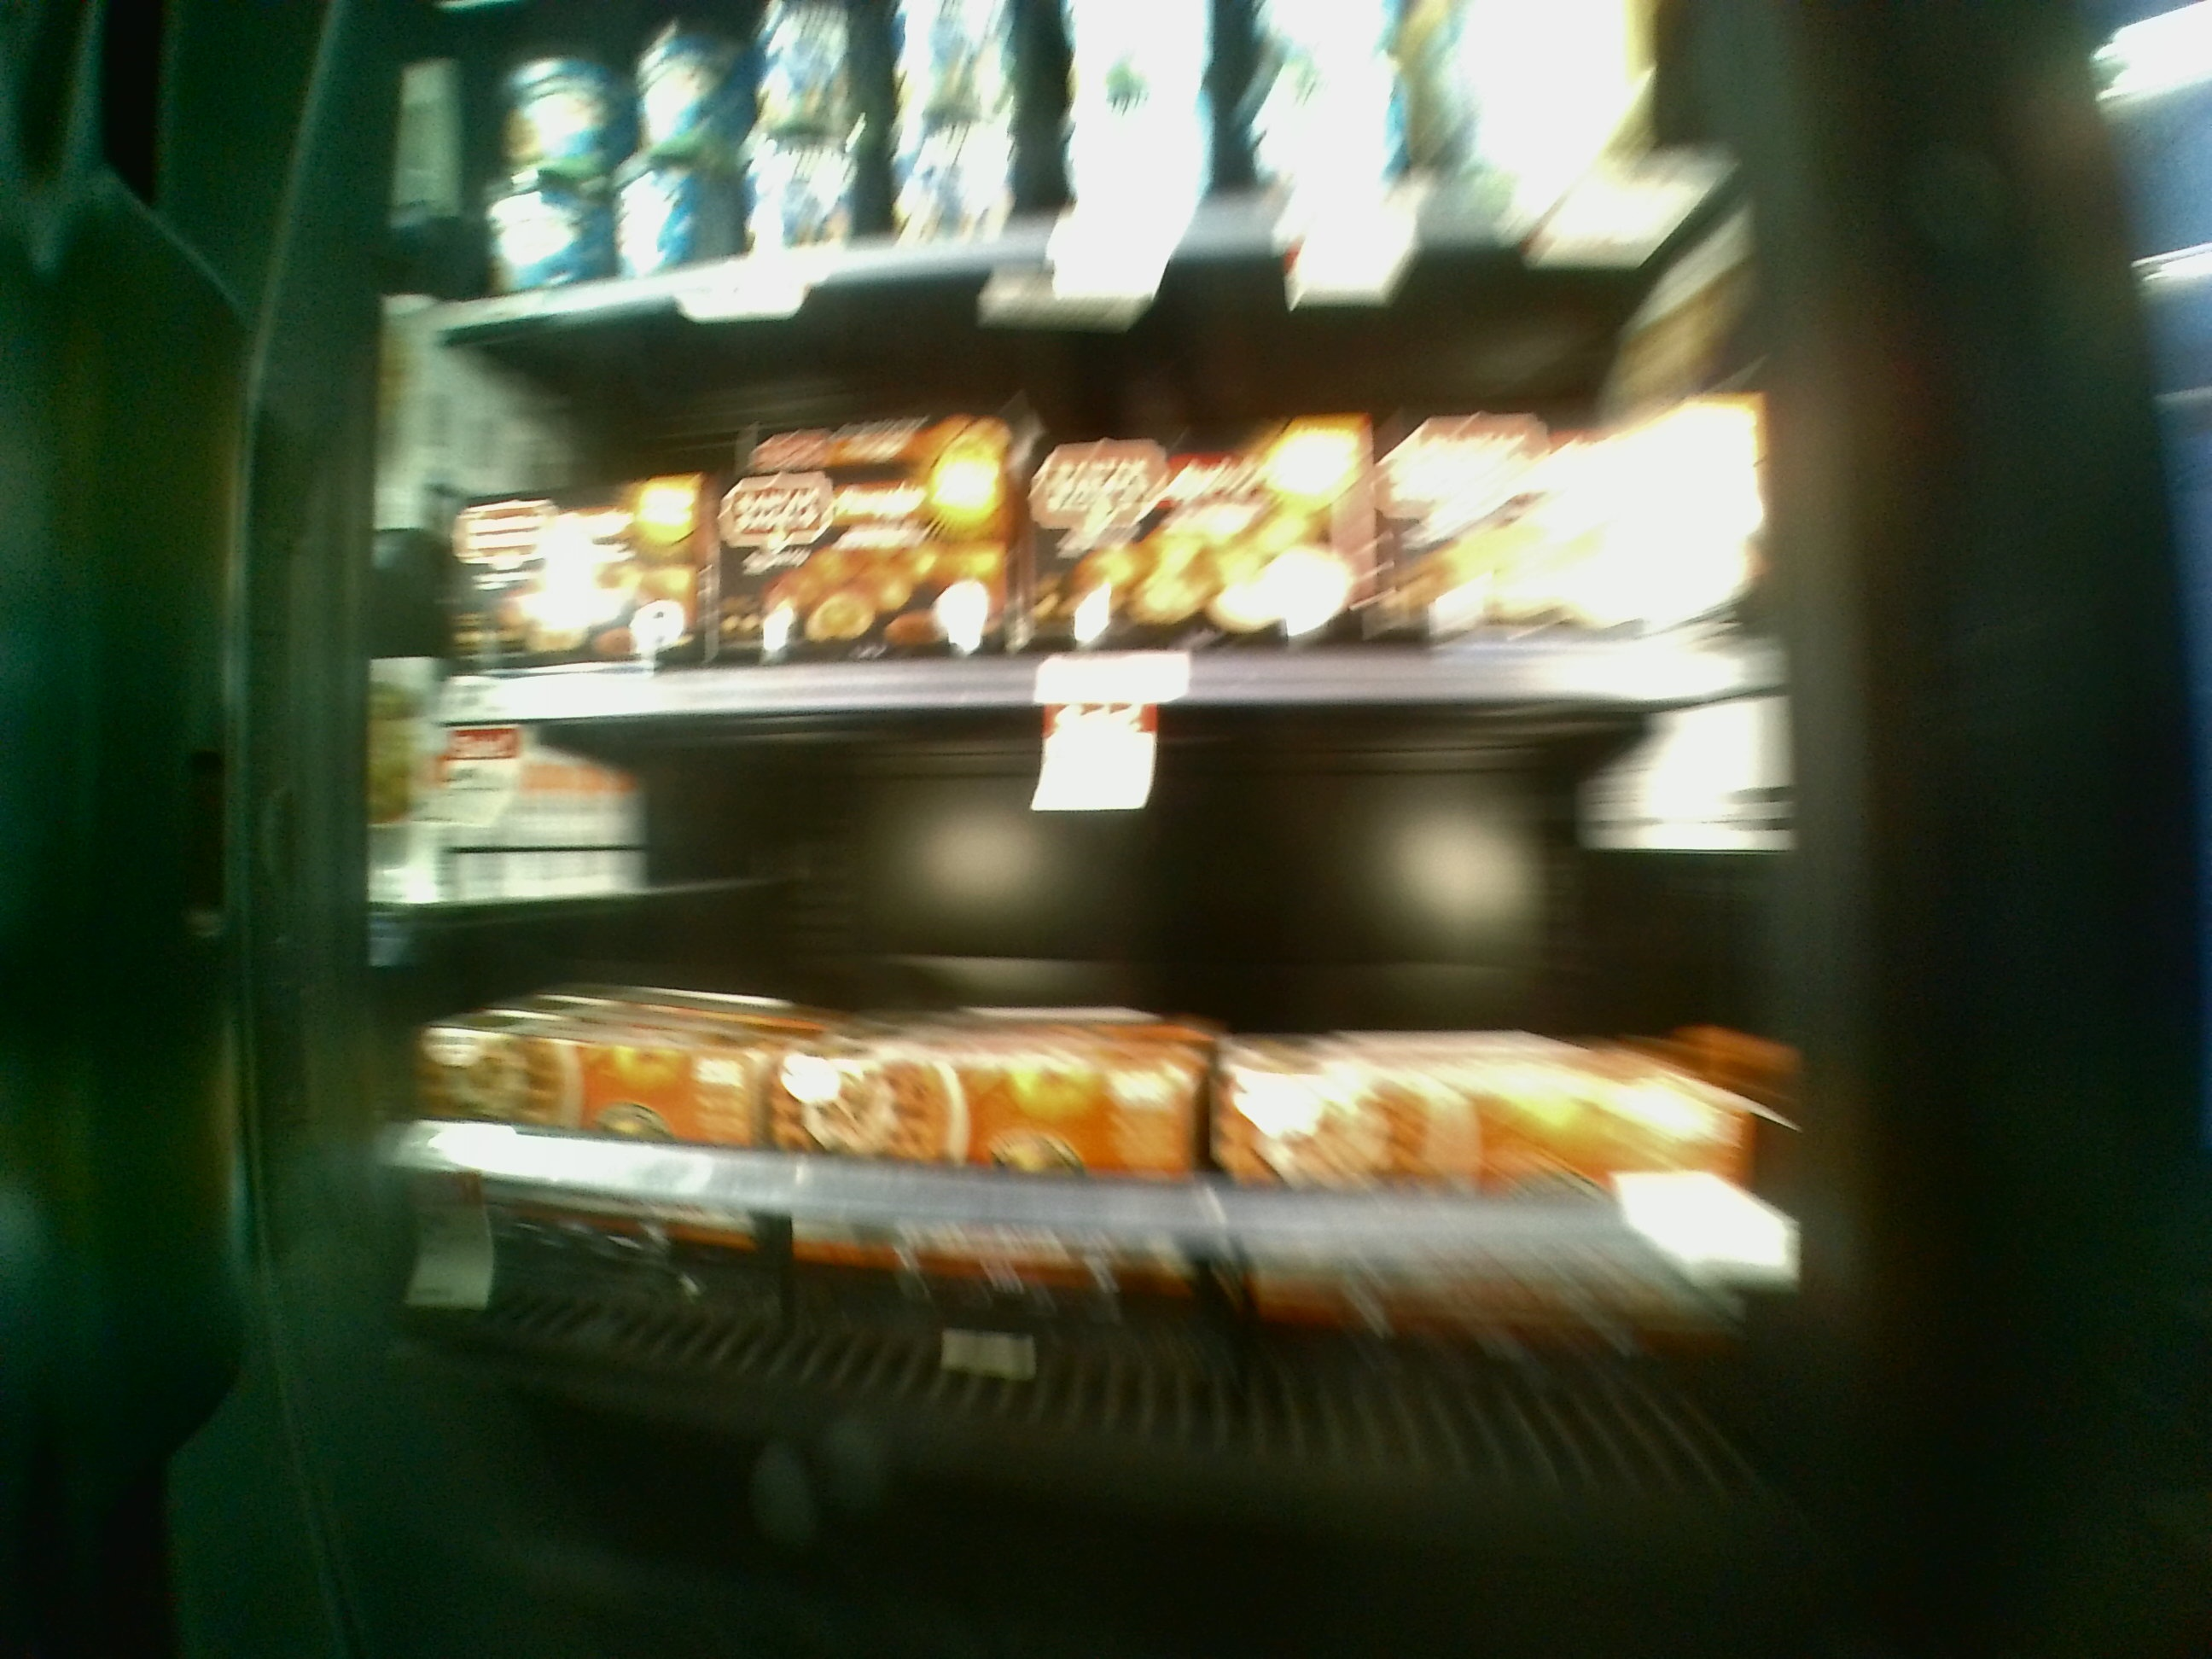shelf: (354, 730, 1850, 1455), (383, 326, 1787, 701)
